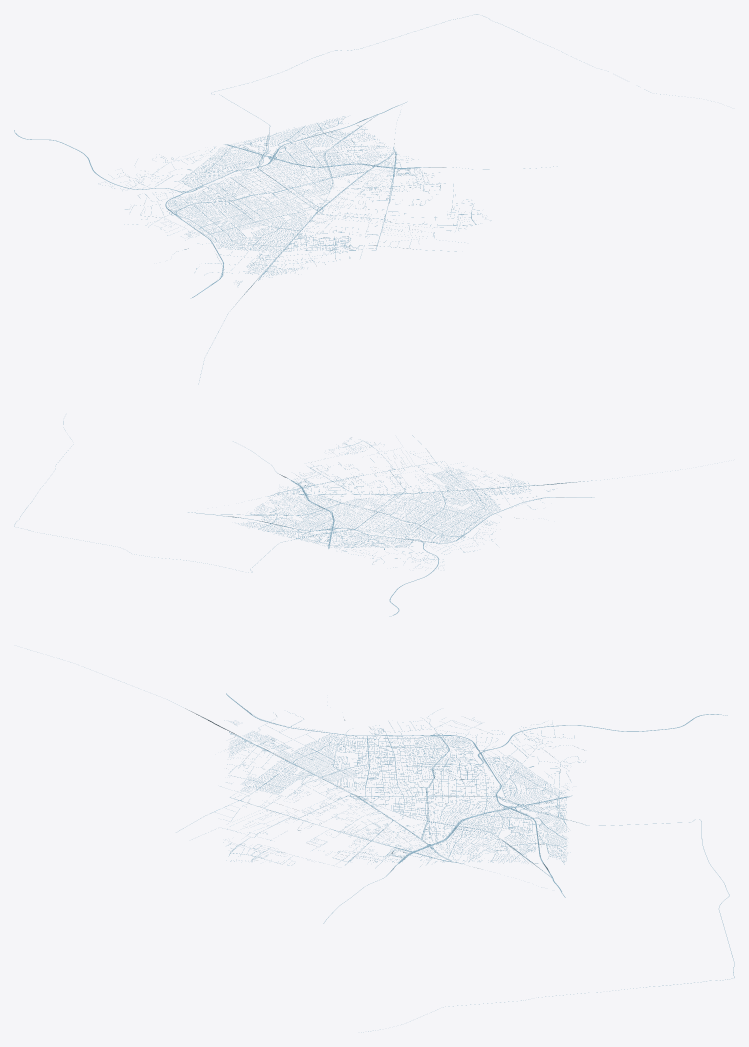
Rendered from roads.glb.
3 views of the same model, one above another, from view 1: azimuth 30°, elevation 25°; view 2: azimuth 150°, elevation 25°; view 3: azimuth 270°, elevation 25° (orthographic). The views are drawn at different scales.
Visible parts, largest first — view 1: roads; view 2: roads; view 3: roads.
Boxes of the visible parts, left/top/right/bottom form: roads: left=14, top=14, right=711, bottom=384; roads: left=14, top=421, right=717, bottom=616; roads: left=27, top=649, right=734, bottom=1032.
Bounding box in the file's own units: 24474 × 114 × 19231.
